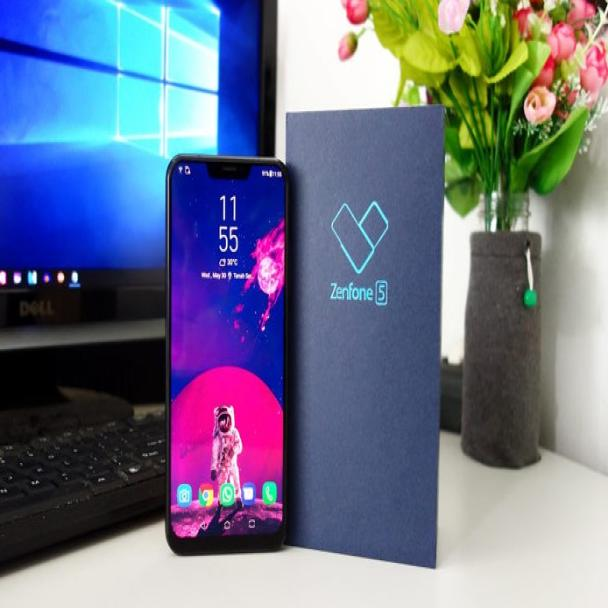Handphone: (167, 148, 288, 557)
